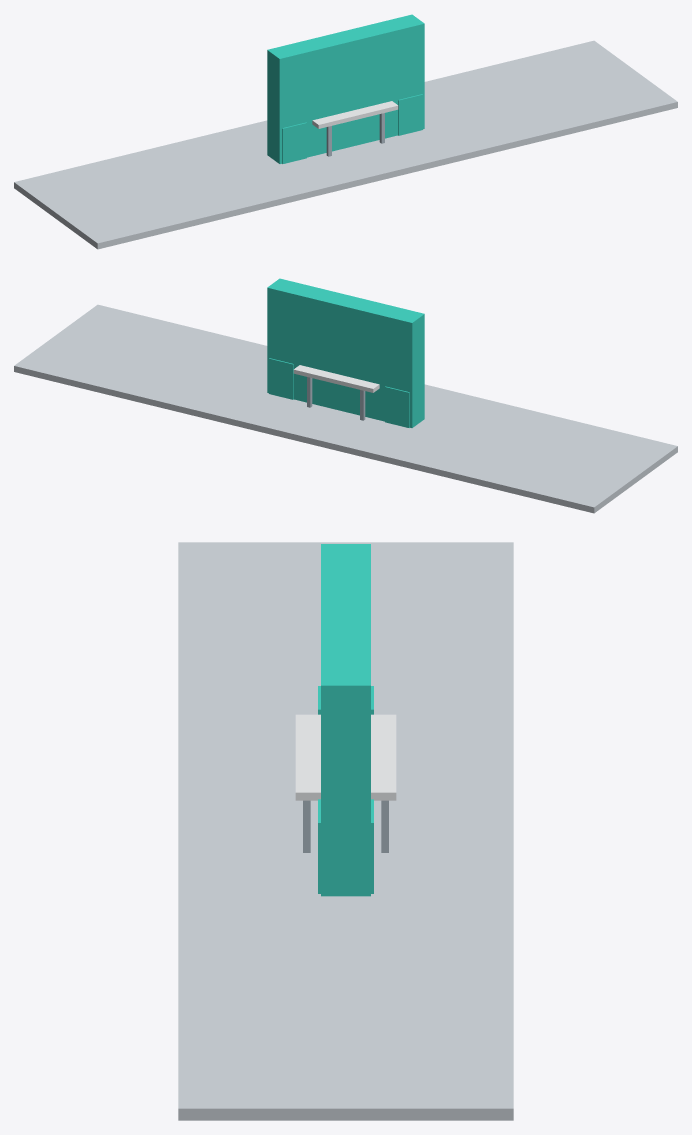
3 views of the same model, one above another, from view 1: azimuth 30°, elevation 25°; view 2: azimuth 150°, elevation 25°; view 3: azimuth 270°, elevation 25° (orthographic). The views are drawn at different scales.
Parts seen in each view (by area): view 1: Exhibition Booth Concept; view 2: Exhibition Booth Concept; view 3: Exhibition Booth Concept.
Part boxes in pixels (x1,y1,x2,y2): Exhibition Booth Concept: (14,14,677,249); Exhibition Booth Concept: (14,278,677,513); Exhibition Booth Concept: (178,542,513,1120).
Bounding box in the file's own units: 12 × 2.2 × 3.
